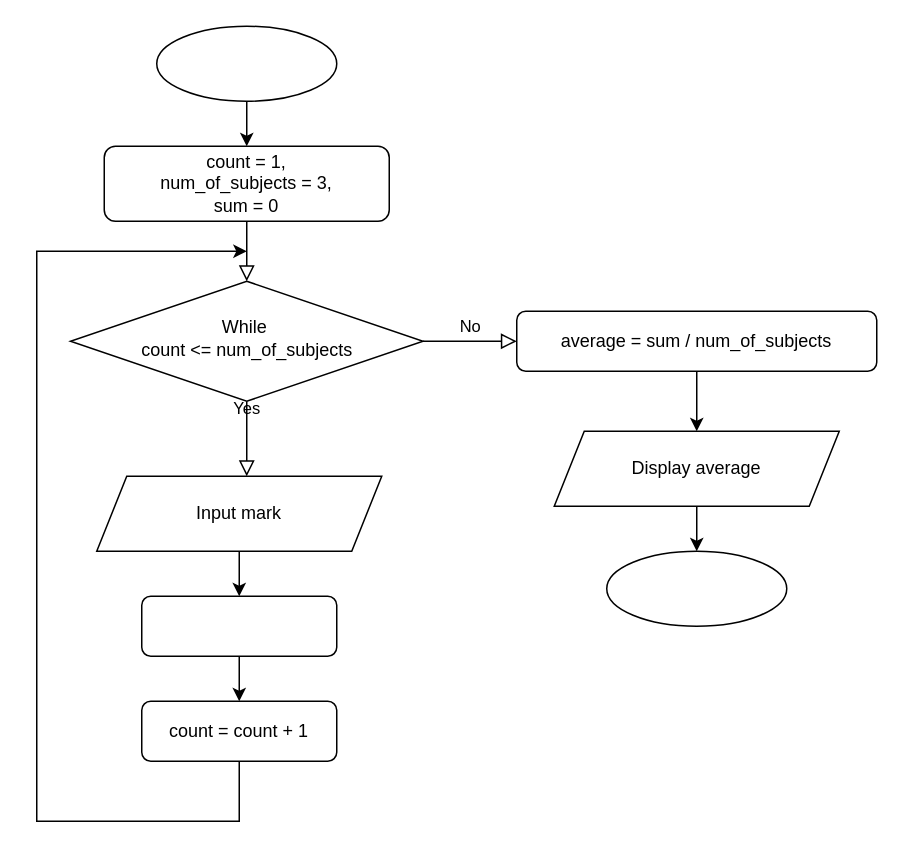
Image size: 903x860. Some labels were removed from this diagram. The centre of each missing label's shape, as x and y in pixels:
"Start" goes at (x=246, y=63).
"Stop" goes at (x=696, y=588).
"sum = sum + mark" goes at (x=238, y=625).
